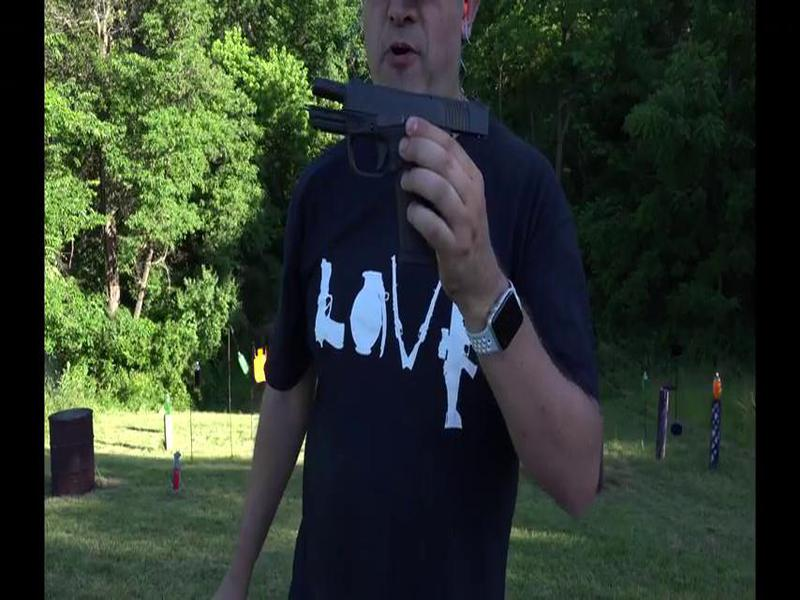Pistola: (298, 54, 515, 288)
